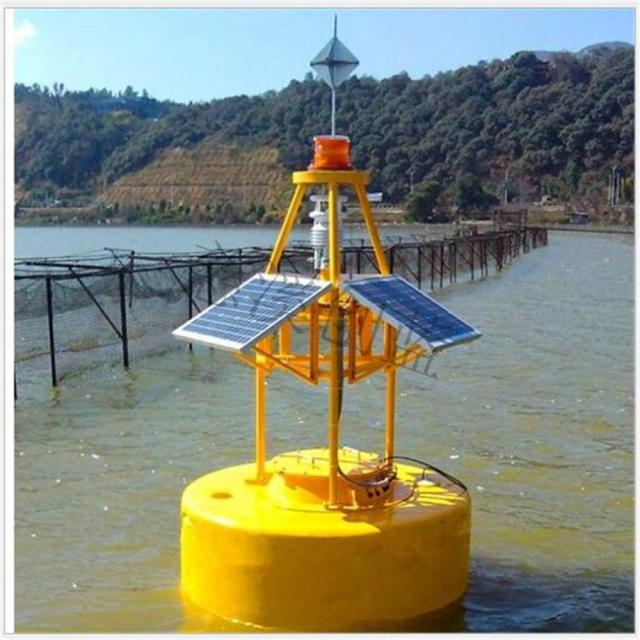buoy: (174, 10, 480, 622)
